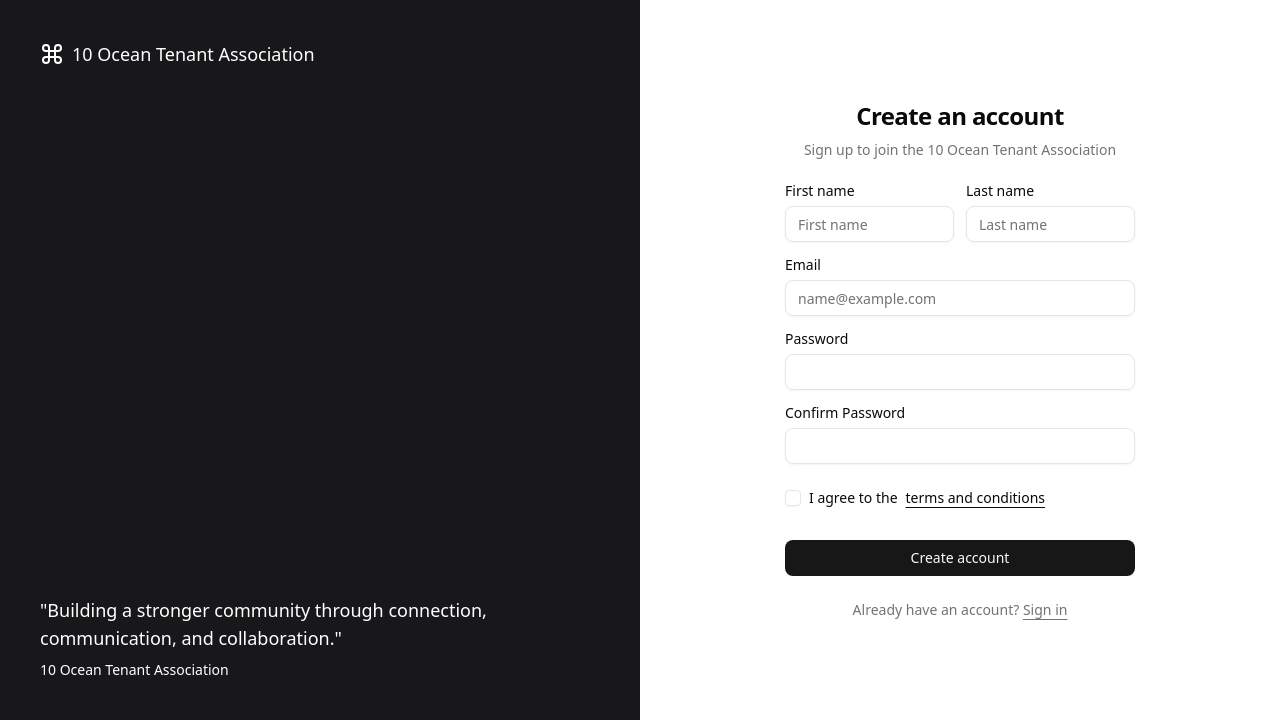
RegisterPage › validates password requirements
// Fill form with weak password
Type "John" into the field labelled "First name".
click(870, 224); type("John")  # box [785, 206, 954, 242]
Type "Doe" into the field labelled "Last name".
click(1050, 224); type("Doe")  # box [966, 206, 1135, 242]
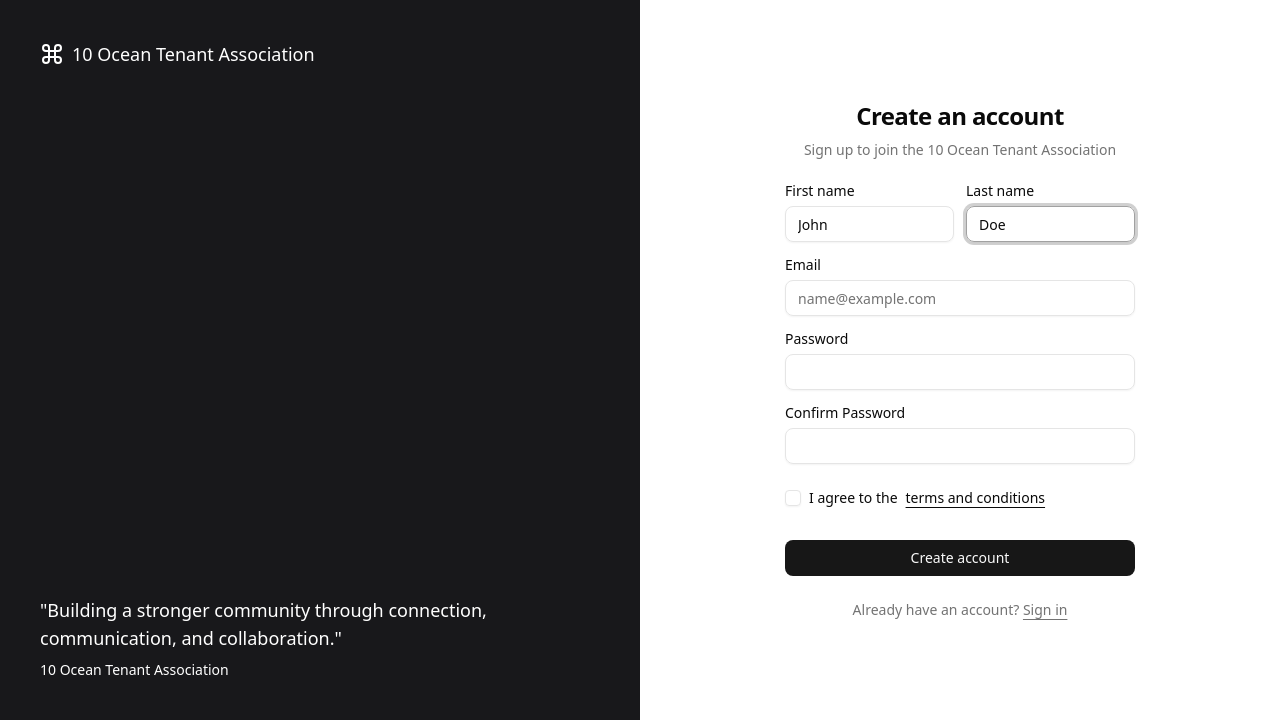
Type "john.doe@example.com" into the field labelled "Email".
click(960, 298); type("john.doe@example.com")  # box [785, 280, 1135, 316]
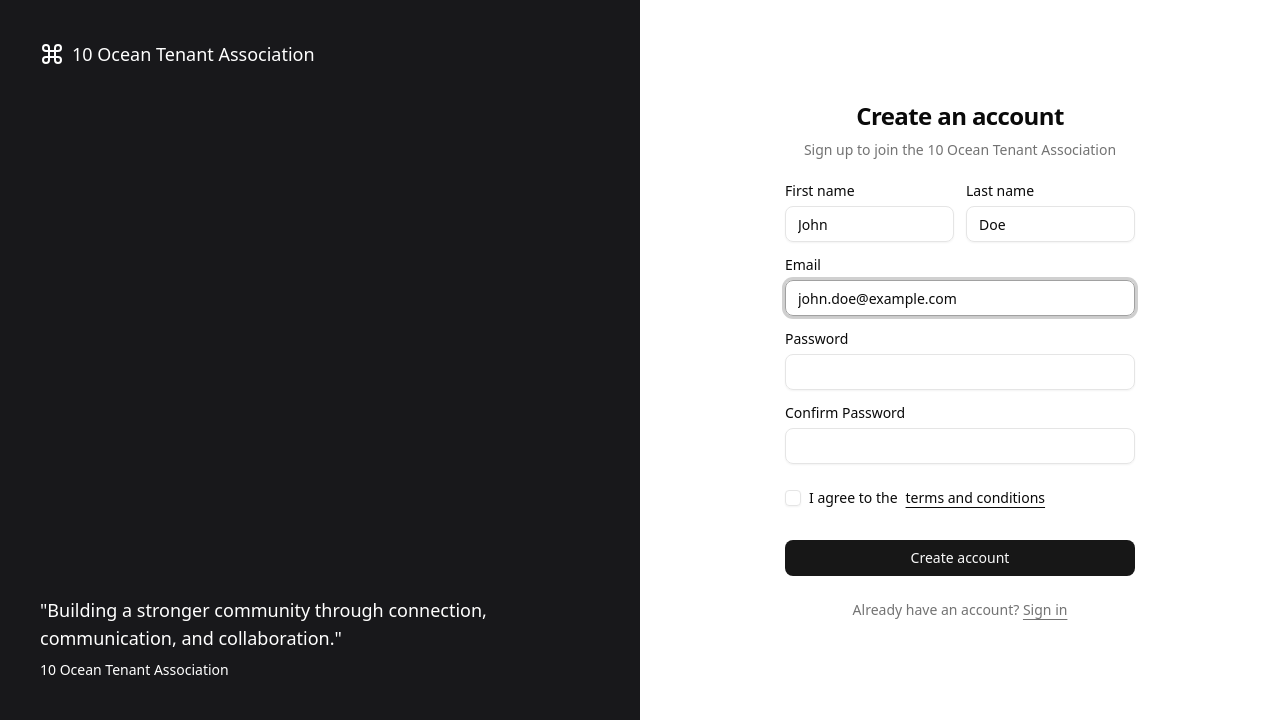
Type "password" into the password field with test id "password-field".
click(960, 372); type("password")  # box [785, 354, 1135, 390]
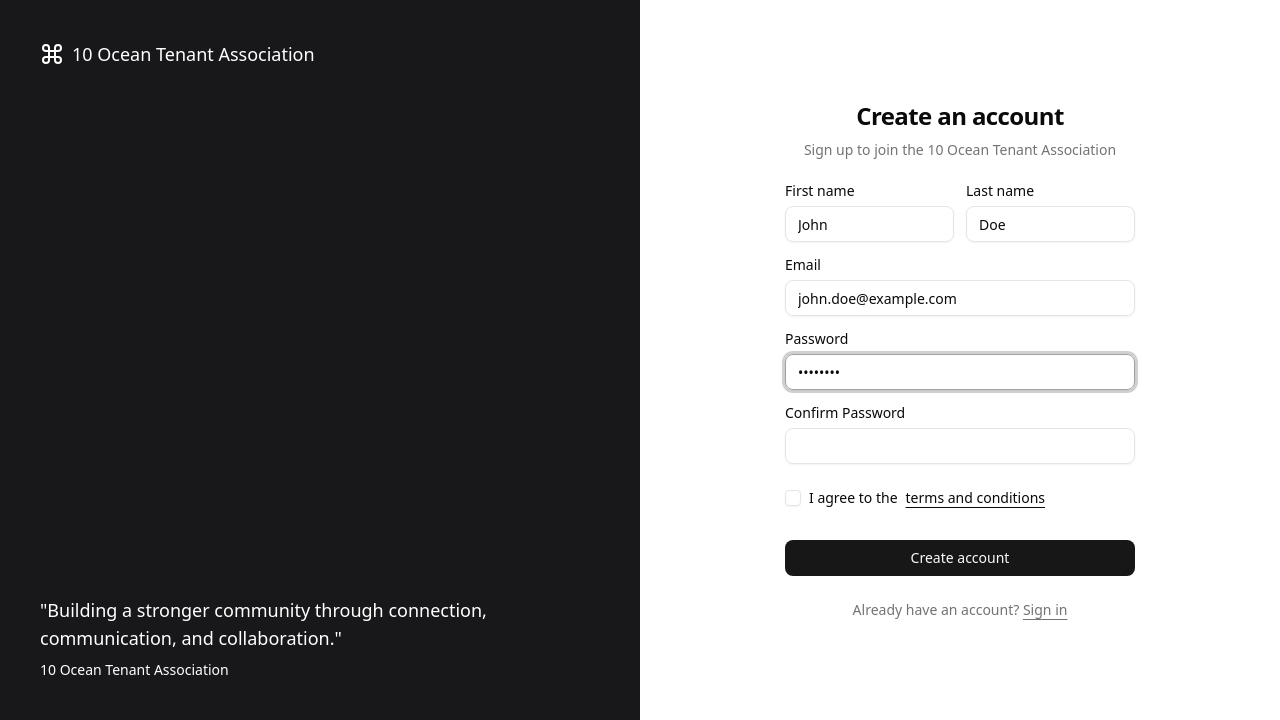
Type "password" into the password field with test id "confirm-password-field".
click(960, 446); type("password")  # box [785, 428, 1135, 464]
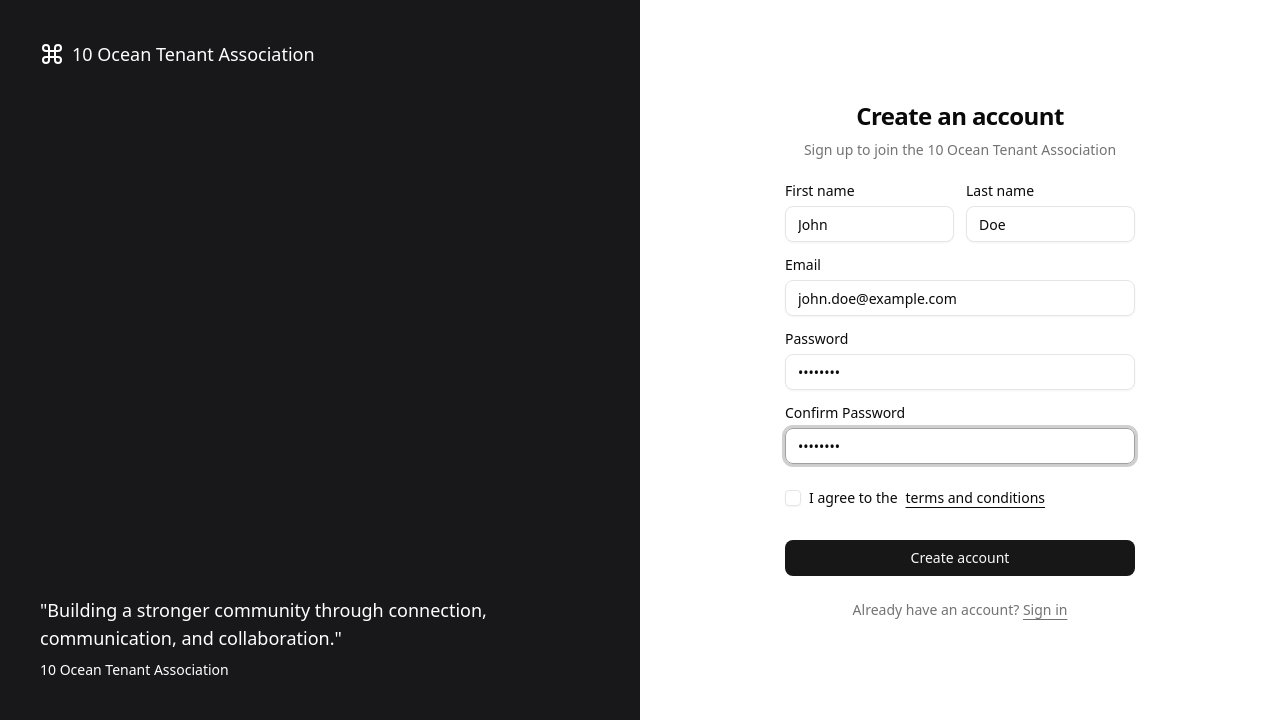
Click the checkbox named "I agree to the terms and conditions".
click(793, 498)  # box [785, 490, 801, 506]
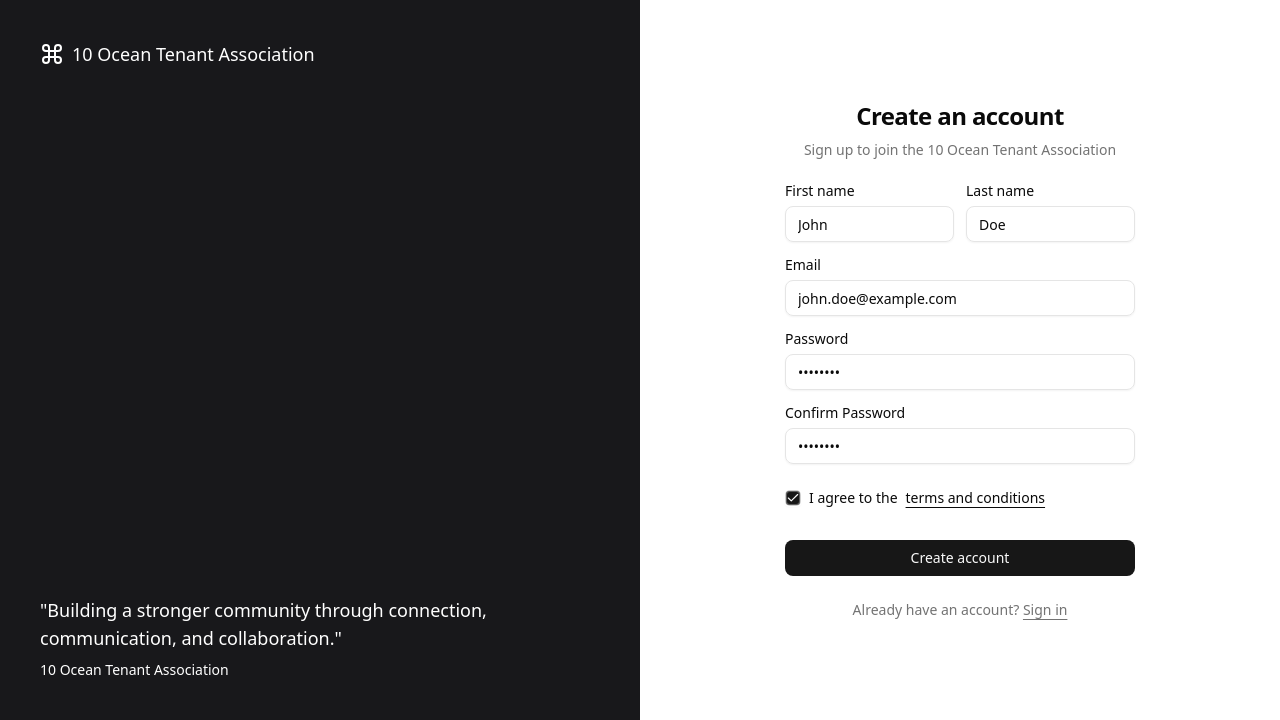
// Submit the form
Click the button "Create account".
click(960, 558)  # box [785, 540, 1135, 576]
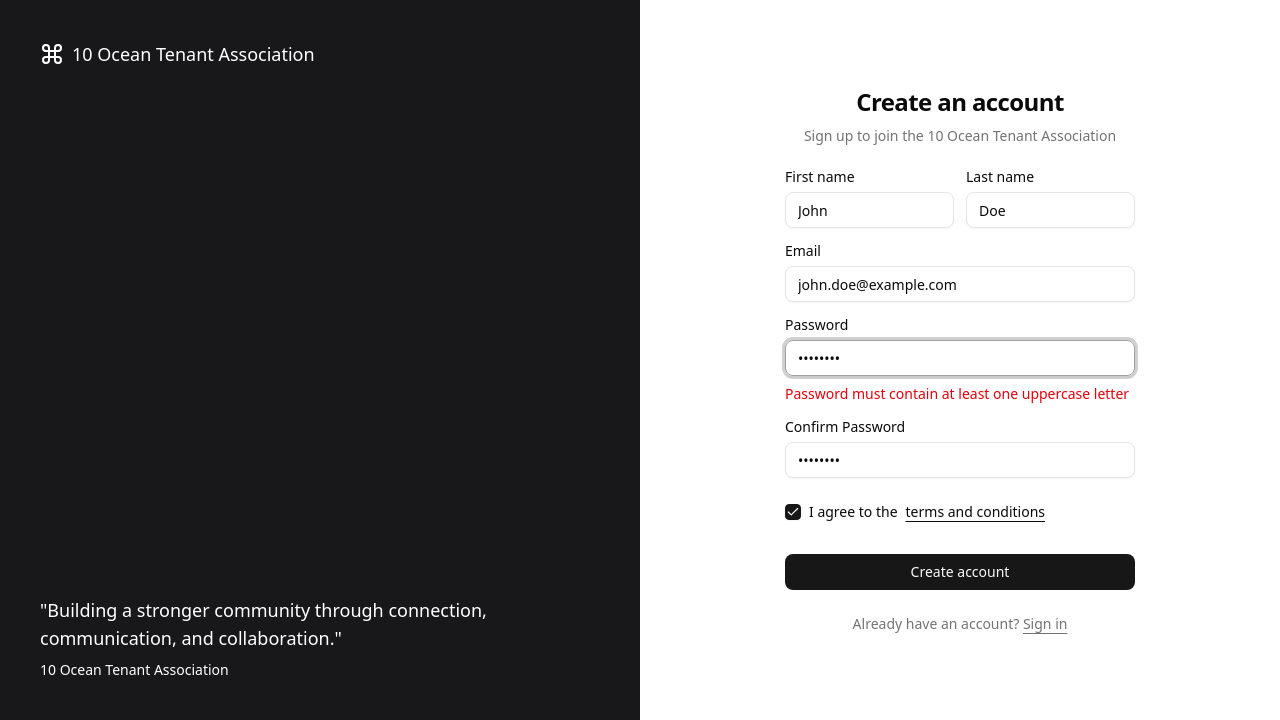
Expected: the text "Password must contain at least one uppercase letter" is shown, [785, 384, 1135, 404]
